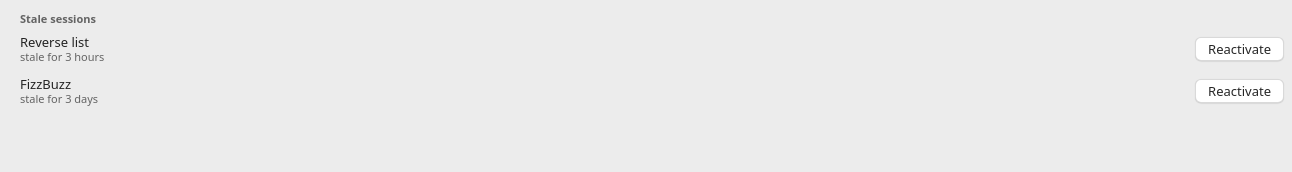
Test: StaleSessionsList › keeps the row and says why when reactivation fails otherwise
expect the link "Reverse list stale for 3 hours" is shown: met, box [20,33,104,64]
Click the button with aria-label "Reactivate FizzBuzz".
click(1240, 91)  # box [1195,79,1284,103]
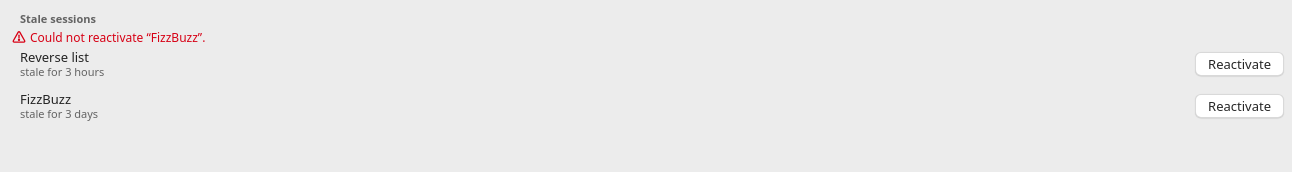
expect the link "FizzBuzz stale for 3 days" is shown: met, box [20,90,98,121]
expect the message "Could not reactivate “FizzBuzz”." is shown: met, box [12,29,205,46]
